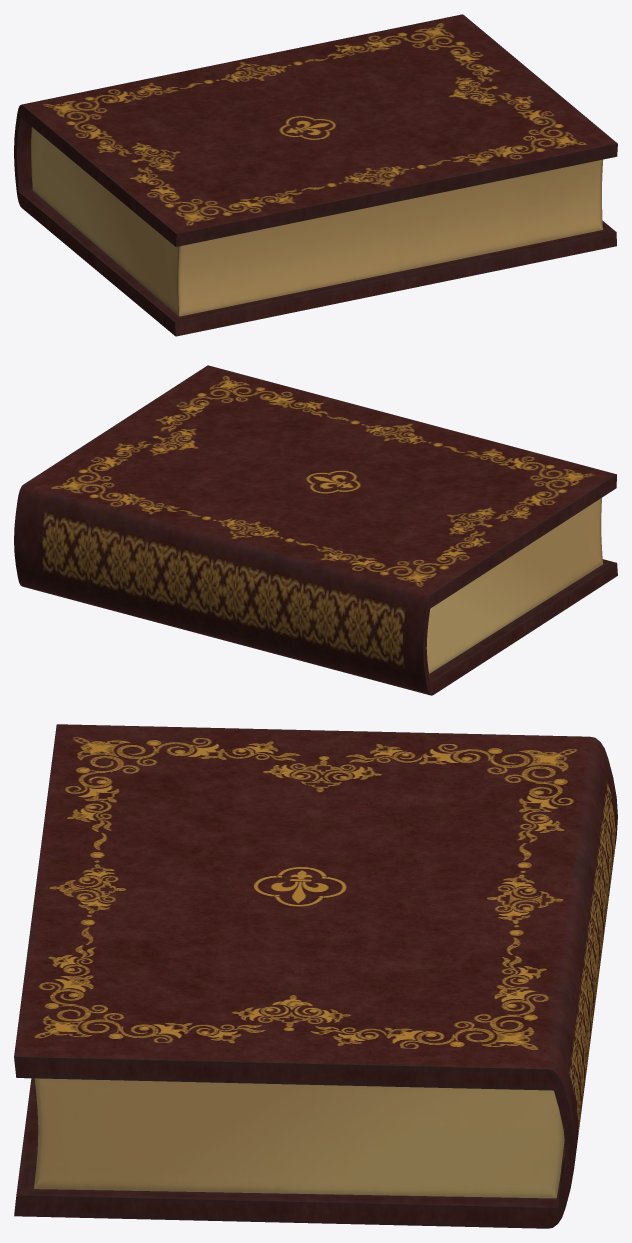
The model's file is libro.glb.
3 renders of one model, top to bottom at view 1: azimuth 30°, elevation 25°; view 2: azimuth 150°, elevation 25°; view 3: azimuth 270°, elevation 25°, orthographic. The views are drawn at different scales.
Visible parts, largest first — view 1: Object_4; view 2: Object_4; view 3: Object_4.
Boxes of the visible parts, x1=… form: Object_4: x1=14, y1=14, x2=617, y2=336; Object_4: x1=14, y1=365, x2=617, y2=695; Object_4: x1=14, y1=724, x2=617, y2=1228.
Bounding box in the file's own units: 0.2964 × 0.0676 × 0.2225.
Materials: 1 (1 with a texture image).
